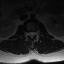CCS_normal: (30, 29, 33, 40)
LFS_normal: (35, 29, 37, 37)
LLS_normal: (33, 29, 35, 38)
RFS_normal: (26, 30, 28, 38)
RLS_normal: (28, 30, 30, 38)
